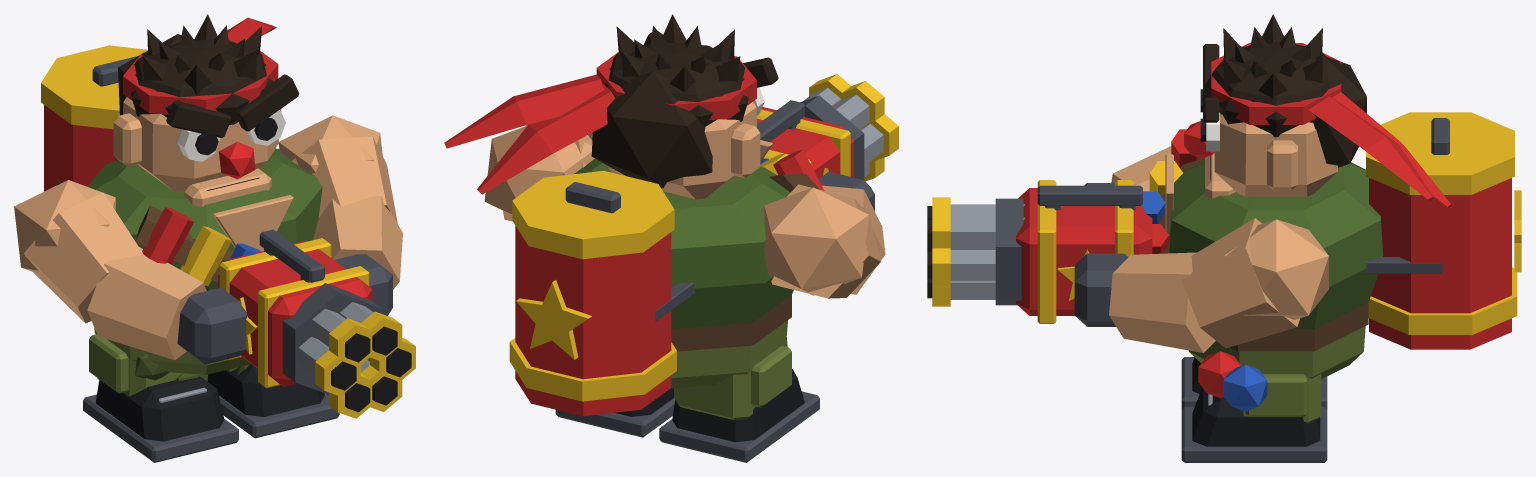
Rendered from Rambozo.fbx.
The picture shows the model from 3 angles, left to right: view 1: azimuth 30°, elevation 25°; view 2: azimuth 150°, elevation 25°; view 3: azimuth 270°, elevation 25°; orthographic projection. The views are drawn at different scales.
Parts seen in each view (by area): view 1: RightArm, LeftArm, Torso, Hair, RightLegBoot, MinigunBody, BarrelGold, Head, MinigunMetal, MinigunMuzzle, RightArmGlove, Barrel (+22 smaller); view 2: Barrel, BarrelGold, Hair, Torso, RightArm, Headband, RightLeg, LeftArm, Pants, RightLegBoot, RightLegSole, Head (+14 smaller); view 3: LeftArm, Barrel, Torso, BarrelGold, Hair, MinigunBody, Headband, Head, MinigunMetal, LeftLegBoot, MinigunBarrels, MinigunGold (+18 smaller).
Part boxes in pixels (box(x1,y1,x2,y2)): RightArm: box(14, 180, 206, 359); LeftArm: box(278, 115, 402, 289); Torso: box(87, 148, 322, 290); Hair: box(118, 14, 272, 124); RightLegBoot: box(95, 377, 224, 441); MinigunBody: box(218, 240, 372, 386); BarrelGold: box(41, 45, 147, 129); Head: box(123, 97, 278, 191); MinigunMetal: box(259, 229, 382, 391); MinigunMuzzle: box(315, 311, 415, 418); RightArmGlove: box(177, 287, 247, 364); Barrel: box(44, 105, 118, 191); Barrel: box(515, 226, 671, 416); BarrelGold: box(509, 171, 676, 401); Hair: box(591, 14, 748, 188); Torso: box(574, 158, 793, 328); RightArm: box(764, 184, 885, 298); Headband: box(444, 52, 756, 194); RightLeg: box(674, 346, 791, 420); LeftArm: box(484, 125, 594, 221); Pants: box(671, 320, 787, 388); RightLegBoot: box(672, 369, 804, 442); RightLegSole: box(659, 391, 819, 462); Head: box(606, 102, 756, 199); LeftArm: box(1109, 218, 1328, 352); Barrel: box(1369, 178, 1511, 349); Torso: box(1169, 162, 1383, 328); BarrelGold: box(1366, 112, 1521, 334); Hair: box(1203, 14, 1366, 167); MinigunBody: box(1016, 188, 1152, 315); Headband: box(1211, 43, 1451, 207); Head: box(1214, 113, 1337, 196); MinigunMetal: box(995, 185, 1142, 305); LeftLegBoot: box(1192, 387, 1320, 446); MinigunBarrels: box(950, 204, 1024, 299); MinigunGold: box(1037, 180, 1133, 323).
Bounding box in the file's own units: 6.86 × 6.68 × 9.59.
